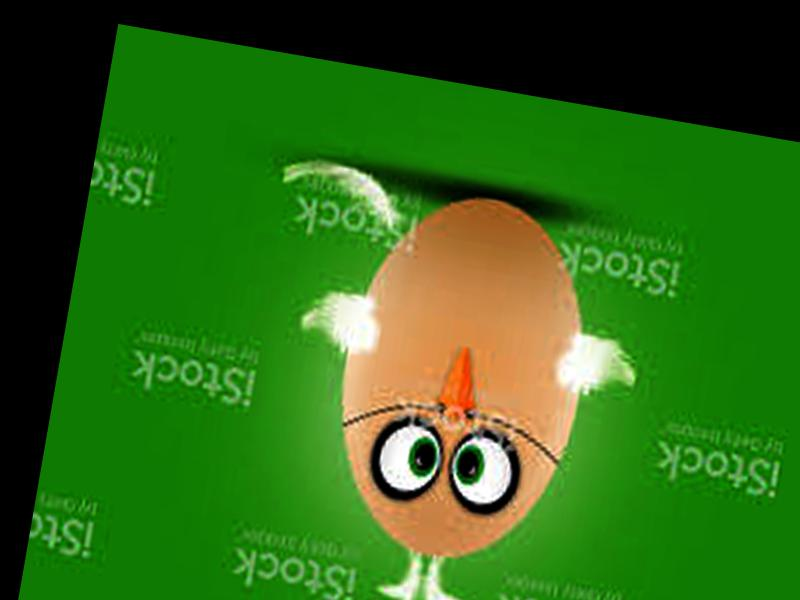Eggs: (315, 175, 607, 576)
